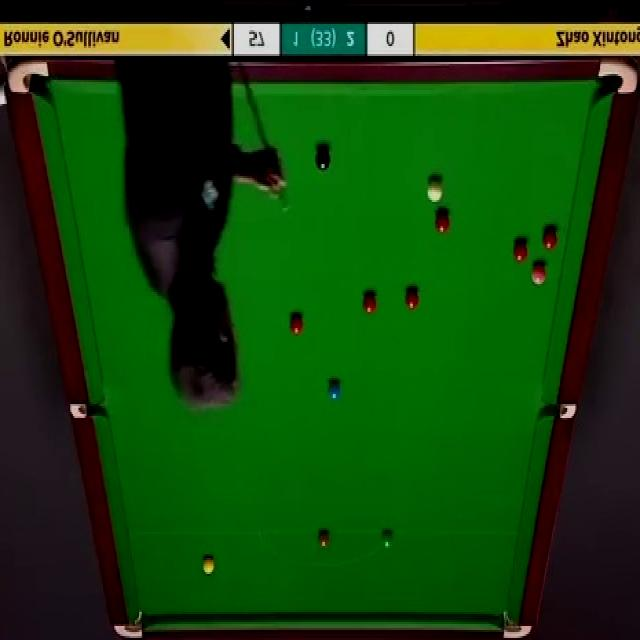pocket: (597, 60, 639, 98), (8, 60, 48, 95), (112, 608, 145, 640), (501, 610, 530, 638), (541, 403, 575, 420), (68, 403, 102, 417)
